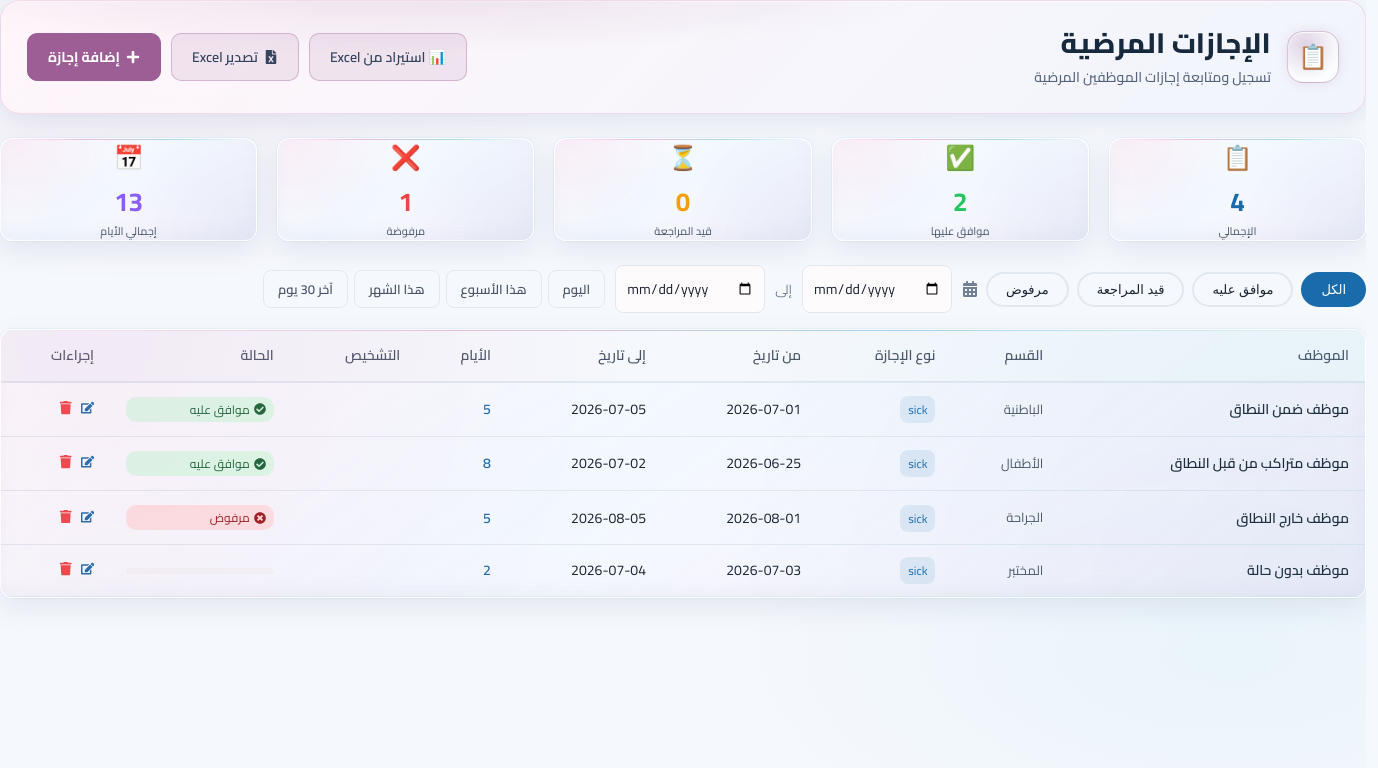
Test: MedicalLeavePage — interval-overlap date filter › the date range combines with the status filter tab (AND logic)
This screenshot has width=1378, height=768.
Expected: the text "موظف بدون حالة" is shown, [1059,545,1365,596]
Type "2026-07-01" into the date field named "من تاريخ" at (877, 289), box [802,265,952,313]
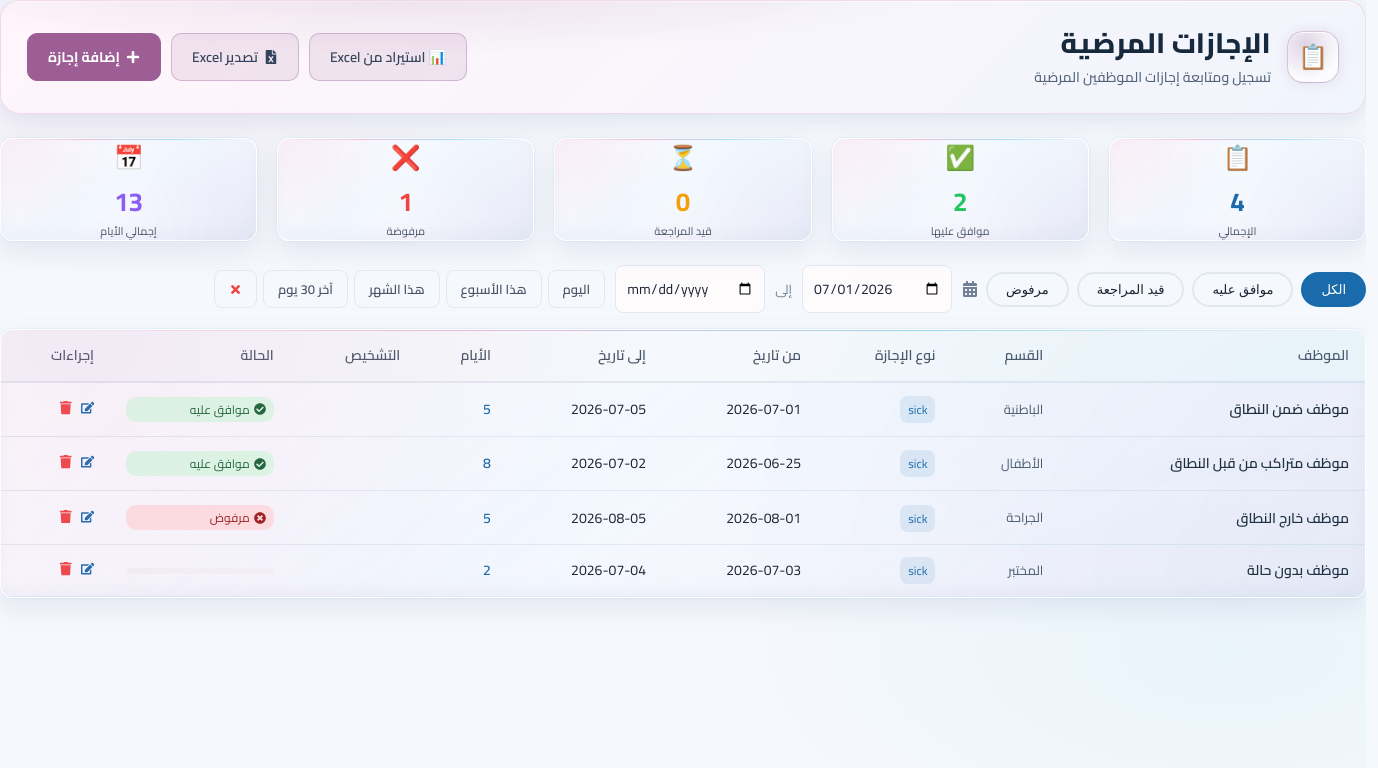
Type "2026-07-15" into the date field named "إلى تاريخ" at (690, 289), box [615,265,765,313]
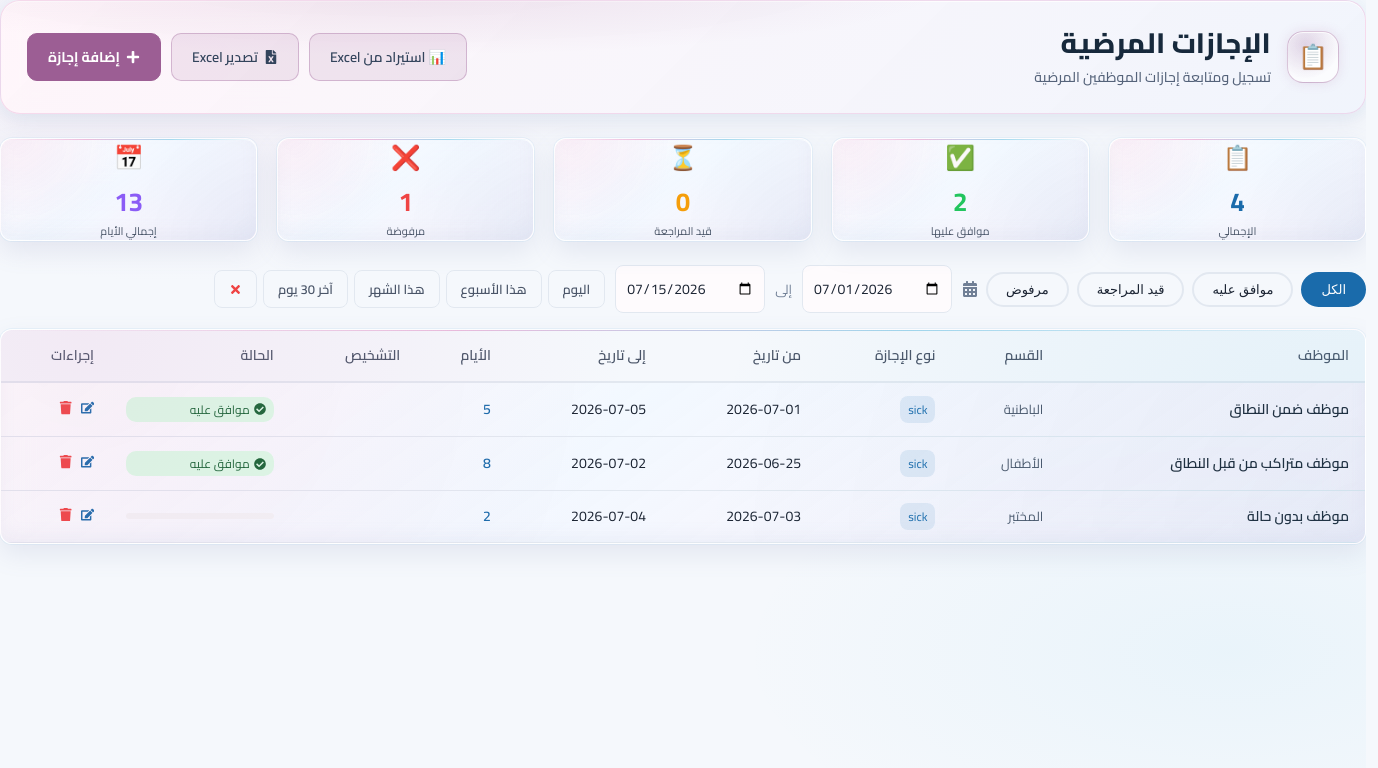
Click the button "مرفوض" at (1027, 289), box [986,272,1069,307]
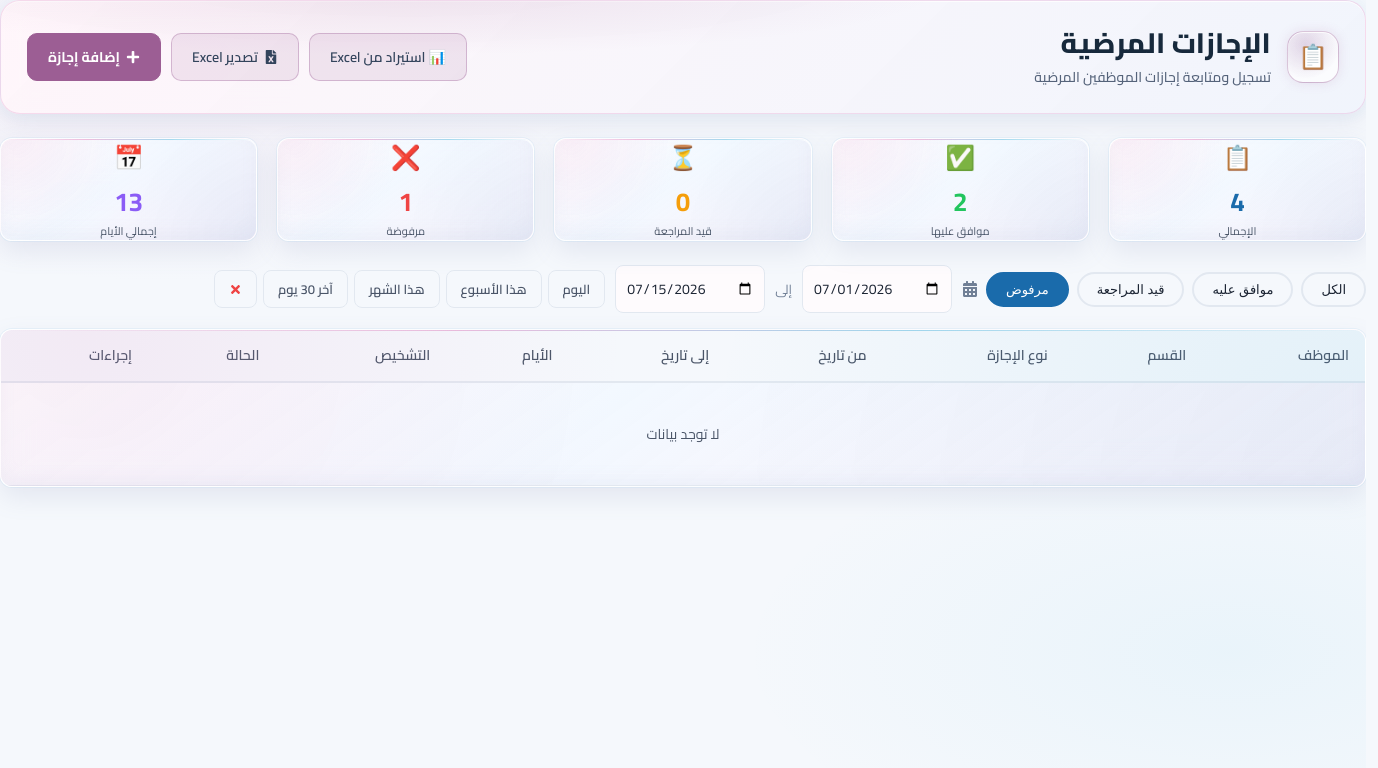
Result: the text "موظف ضمن النطاق" is gone
Result: the text "موظف متراكب من قبل النطاق" is gone
Result: the text "موظف بدون حالة" is gone
